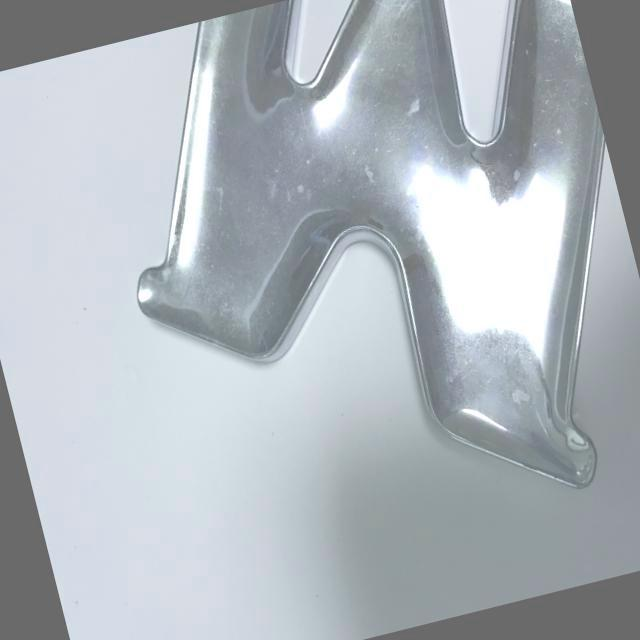metal: (63, 0, 640, 592)
